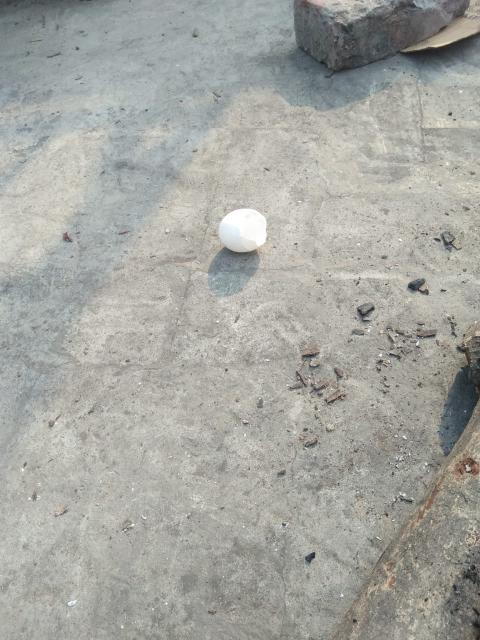Roto: (217, 207, 267, 253)
